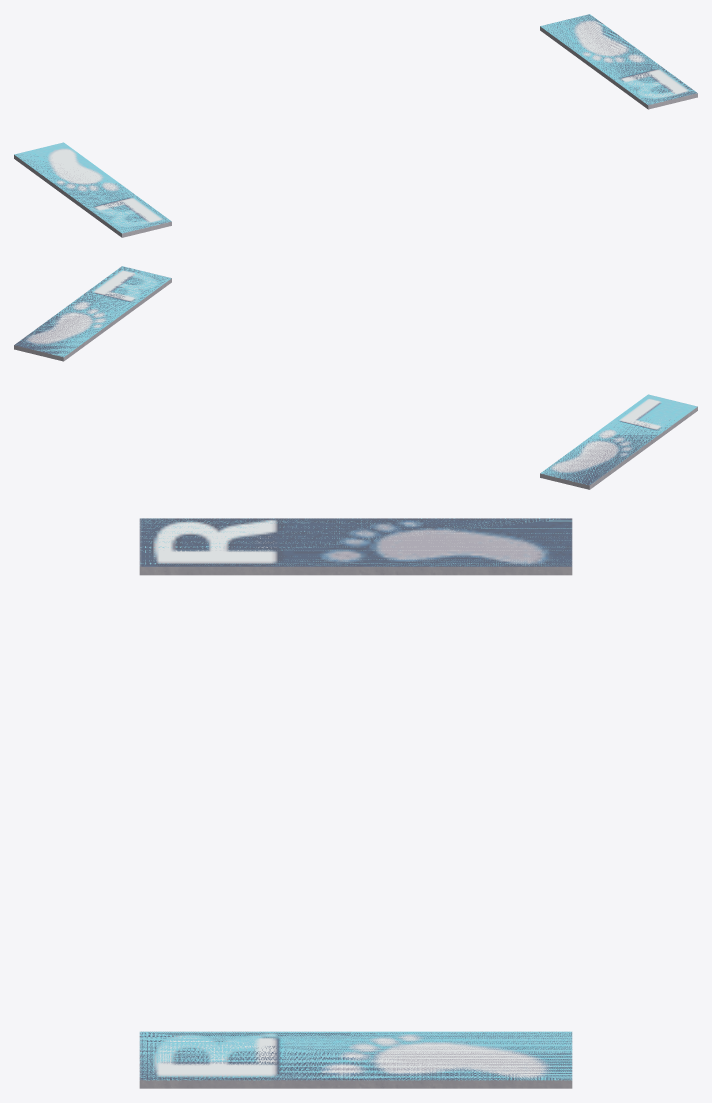
File: Starting_endpoint_L-R.fbx
3 renders of one model, top to bottom at view 1: azimuth 30°, elevation 25°; view 2: azimuth 150°, elevation 25°; view 3: azimuth 270°, elevation 25°, orthographic. The views are drawn at different scales.
Parts seen in each view (by area): view 1: Starting_endpoint_L_ON, Starting_endpoint_R_ON, Starting_endpoint_L_OFF, Starting_endpoint_R_OFF; view 2: Starting_endpoint_L_ON, Starting_endpoint_R_ON, Starting_endpoint_L_OFF, Starting_endpoint_R_OFF; view 3: Starting_endpoint_R_OFF, Starting_endpoint_L_ON, Starting_endpoint_L_OFF, Starting_endpoint_R_ON.
Part boxes in pixels (x1,y1,x2,y2): Starting_endpoint_L_ON: [540, 14, 697, 109]; Starting_endpoint_R_ON: [14, 142, 171, 237]; Starting_endpoint_L_OFF: [540, 14, 697, 108]; Starting_endpoint_R_OFF: [14, 154, 171, 237]; Starting_endpoint_L_ON: [14, 266, 171, 361]; Starting_endpoint_R_ON: [541, 394, 697, 489]; Starting_endpoint_L_OFF: [14, 266, 171, 361]; Starting_endpoint_R_OFF: [540, 407, 697, 489]; Starting_endpoint_R_OFF: [139, 518, 572, 573]; Starting_endpoint_L_ON: [139, 1031, 572, 1080]; Starting_endpoint_L_OFF: [139, 1031, 572, 1088]; Starting_endpoint_R_ON: [139, 518, 572, 575].
Size of the model in its own units: 400 by 2.82 by 130.
